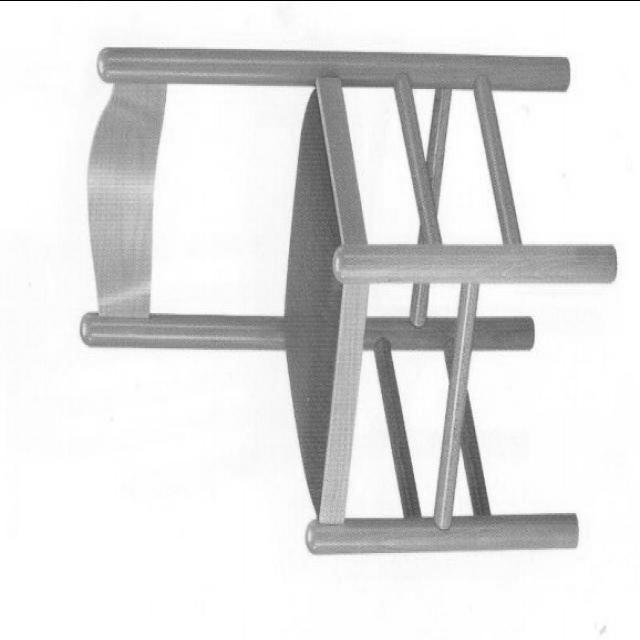chair: (79, 42, 617, 556)
